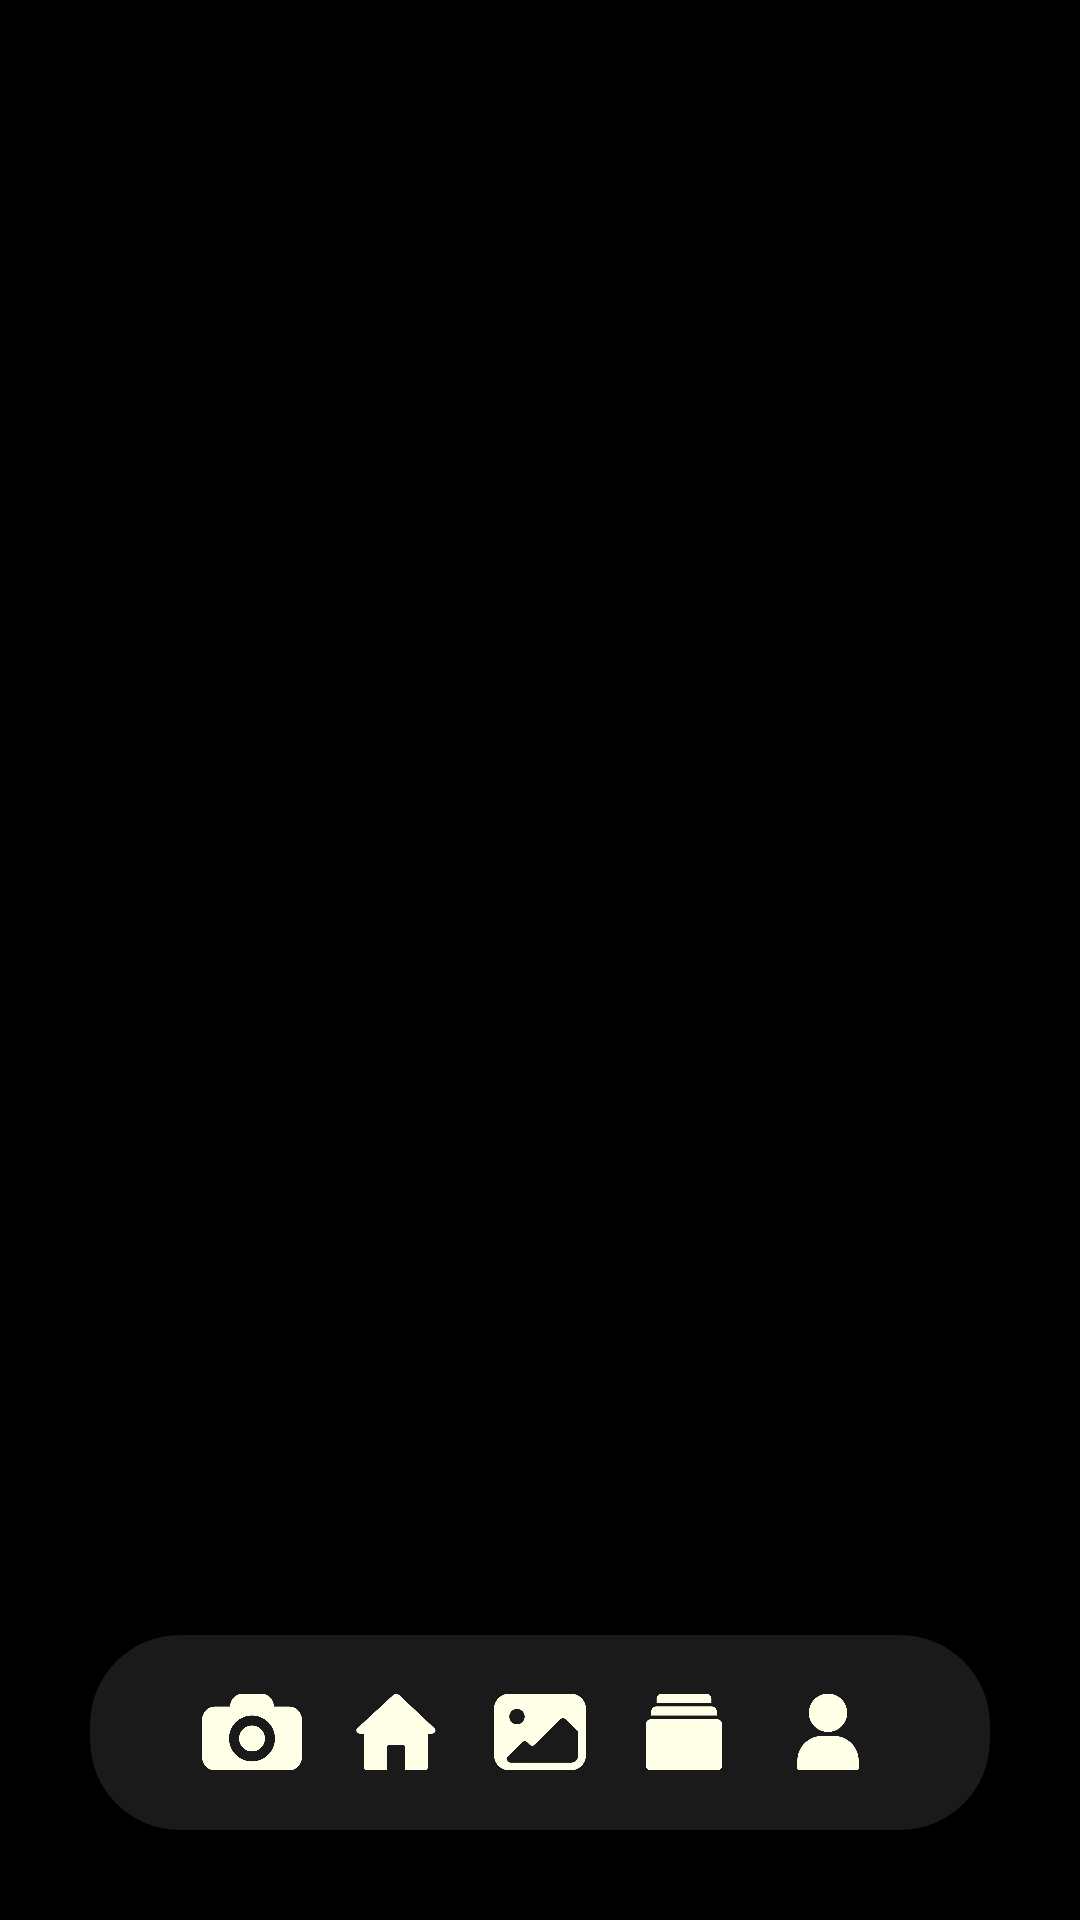

Point at icon controls on the screen. Image size 1080×1920, points as (x,y).
albums bage neutral: (684,1732)
camera bage neutral: (252,1732)
gallery bage neutral: (540,1732)
home bage neutral: (396,1732)
profile bage neutral: (828,1732)
